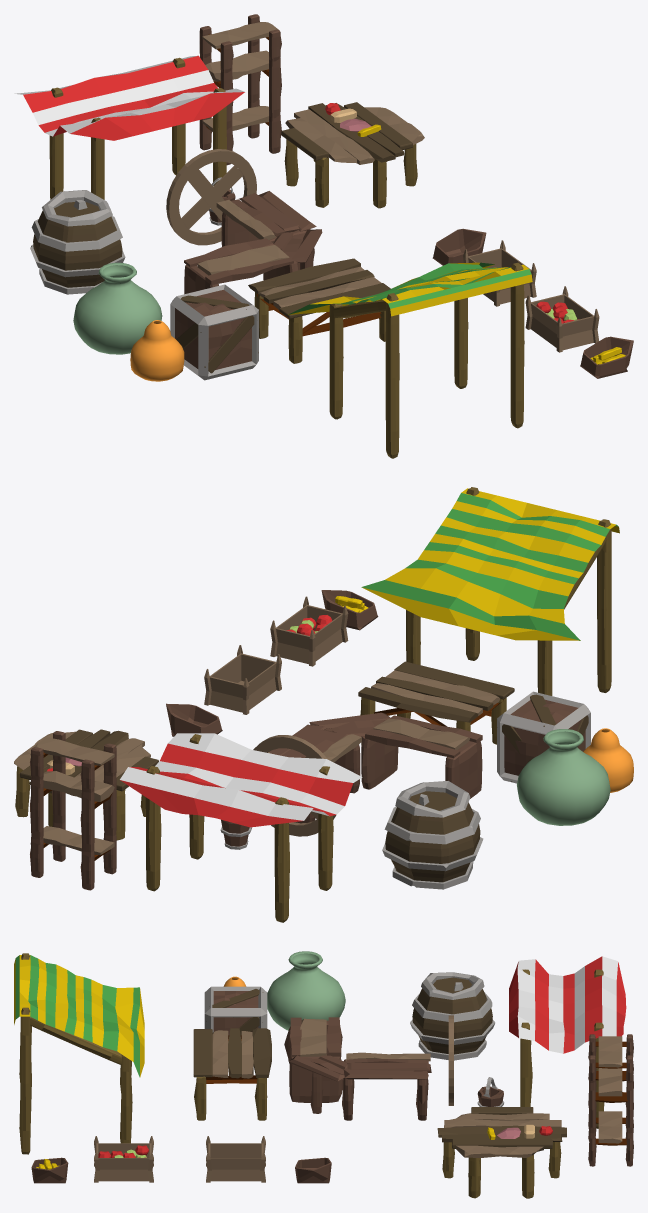
The model's file is uploads_files_3900149_MarketPack.fbx.
3 renders of one model, top to bottom at view 1: azimuth 30°, elevation 25°; view 2: azimuth 150°, elevation 25°; view 3: azimuth 270°, elevation 25°, orthographic. The views are drawn at different scales.
Parts seen in each view (by area): view 1: StallCover_2, StallCover_1, StallTable_3, StallTable_2, Barrel, Shelves, Box, StallTable_1, Vase_1, Wheel, Cube.052, Vase_2 (+3 smaller); view 2: StallCover_1, StallCover_2, Shelves, StallTable_3, Barrel, StallTable_1, Vase_1, Box, StallTable_2, Casette_2, Cube.052, Vase_2 (+4 smaller); view 3: StallCover_1, StallCover_2, StallTable_3, StallTable_2, Barrel, StallTable_1, Shelves, Vase_1, Box, Casette_2, Cube.052, Casette_1 (+3 smaller).
Boxes of the visible parts, x1=… form: StallCover_2: x1=14, y1=55, x2=244, y2=199; StallCover_1: x1=288, y1=262, x2=532, y2=458; StallTable_3: x1=184, y1=191, x2=322, y2=294; StallTable_2: x1=281, y1=102, x2=424, y2=208; Barrel: x1=30, y1=190, x2=125, y2=294; Shelves: x1=199, y1=14, x2=281, y2=165; Box: x1=170, y1=284, x2=258, y2=380; StallTable_1: x1=248, y1=258, x2=390, y2=363; Vase_1: x1=73, y1=262, x2=162, y2=354; Wheel: x1=166, y1=149, x2=256, y2=245; Cube.052: x1=525, y1=286, x2=599, y2=352; Vase_2: x1=130, y1=320, x2=184, y2=381; StallCover_1: x1=361, y1=487, x2=619, y2=695; StallCover_2: x1=120, y1=733, x2=362, y2=922; Shelves: x1=30, y1=731, x2=116, y2=890; StallTable_3: x1=269, y1=712, x2=482, y2=823; Barrel: x1=382, y1=781, x2=483, y2=889; StallTable_1: x1=358, y1=661, x2=514, y2=745; Vase_1: x1=517, y1=729, x2=610, y2=825; Box: x1=497, y1=691, x2=590, y2=783; StallTable_2: x1=14, y1=729, x2=158, y2=840; Casette_2: x1=204, y1=645, x2=281, y2=714; Cube.052: x1=270, y1=596, x2=348, y2=666; Vase_2: x1=583, y1=728, x2=633, y2=792; StallCover_1: x1=14, y1=953, x2=144, y2=1154; StallCover_2: x1=509, y1=956, x2=626, y2=1128; StallTable_3: x1=284, y1=1017, x2=431, y2=1120; StallTable_2: x1=437, y1=1107, x2=566, y2=1198; Barrel: x1=410, y1=972, x2=495, y2=1060; StallTable_1: x1=193, y1=1028, x2=271, y2=1120; Shelves: x1=588, y1=1034, x2=633, y2=1166; Vase_1: x1=267, y1=951, x2=345, y2=1030; Box: x1=204, y1=986, x2=267, y2=1035; Casette_2: x1=206, y1=1136, x2=265, y2=1182; Cube.052: x1=94, y1=1136, x2=153, y2=1182; Casette_1: x1=295, y1=1157, x2=331, y2=1183.
Bounding box in the file's own units: 827 × 299 × 1143.
